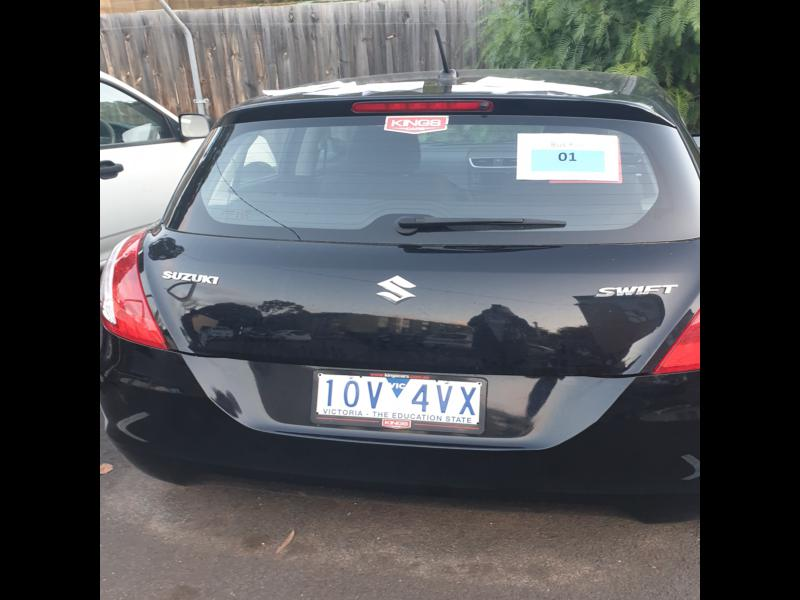BusRun: (529, 147, 607, 173)
PlateNo: (312, 371, 485, 426)
